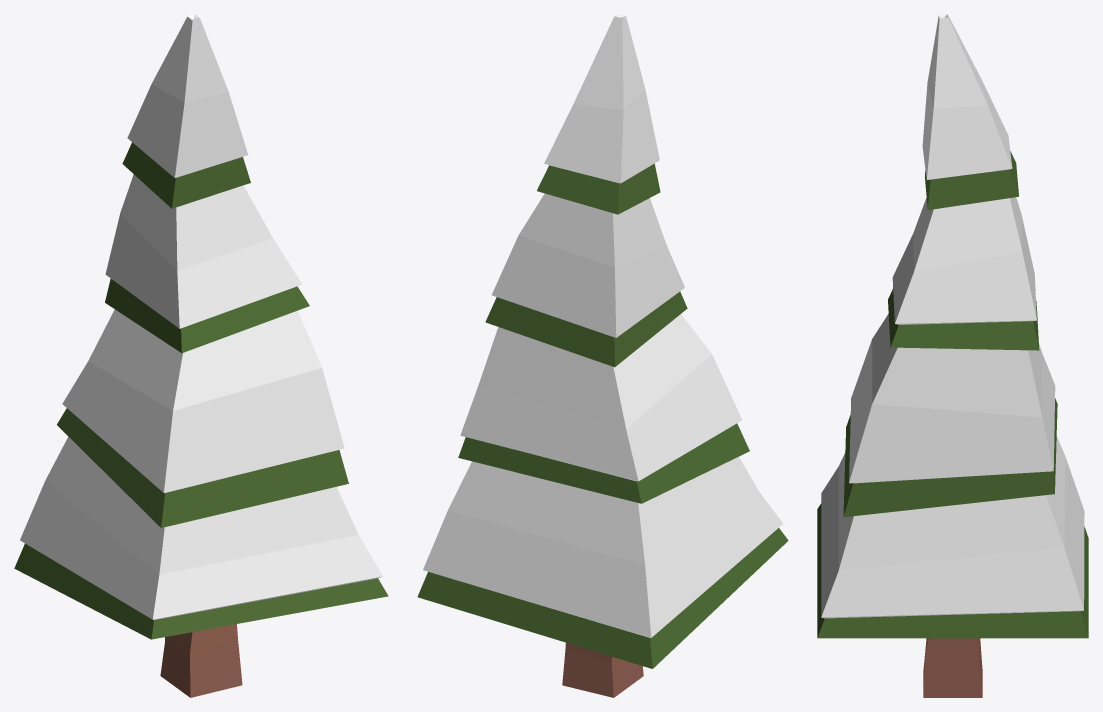
Rendered from tree2.glb.
3 views of the same model, side by side, from view 1: azimuth 30°, elevation 25°; view 2: azimuth 150°, elevation 25°; view 3: azimuth 270°, elevation 25° (orthographic).
Parts seen in each view (by area): view 1: Tree 2_0.001; view 2: Tree 2_0.001; view 3: Tree 2_0.001.
Boxes of the visible parts, x1,y1,x2,y2 form: Tree 2_0.001: (14,14,388,697); Tree 2_0.001: (417,14,788,697); Tree 2_0.001: (817,14,1088,697).
Size of what is drawn, in the model's own units: 3.65 by 9.84 by 3.65.
Materials: 1 (1 with a texture image).
